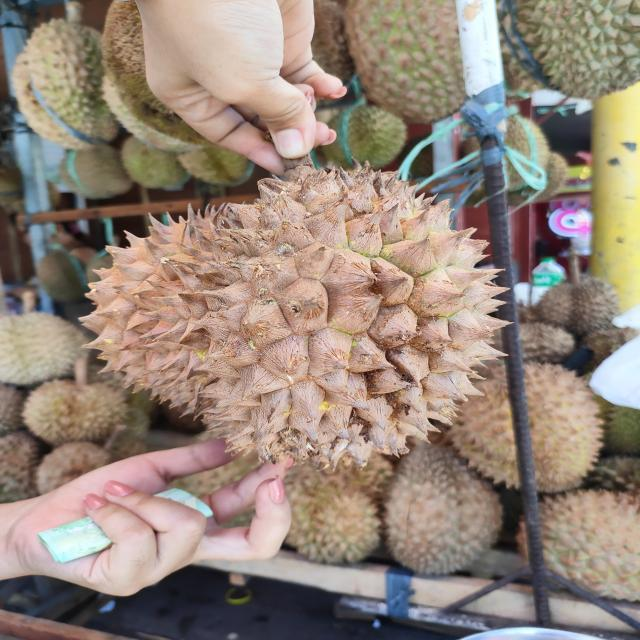mature: (74, 158, 512, 474)
